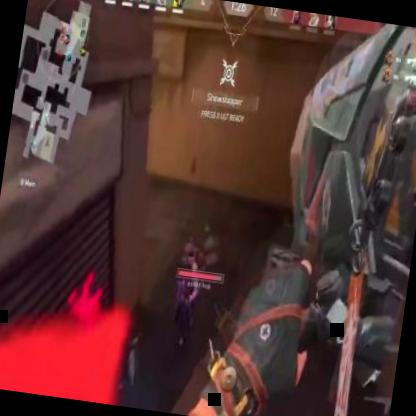enemy: (167, 239, 205, 340)
enemy_head: (183, 242, 196, 264)
